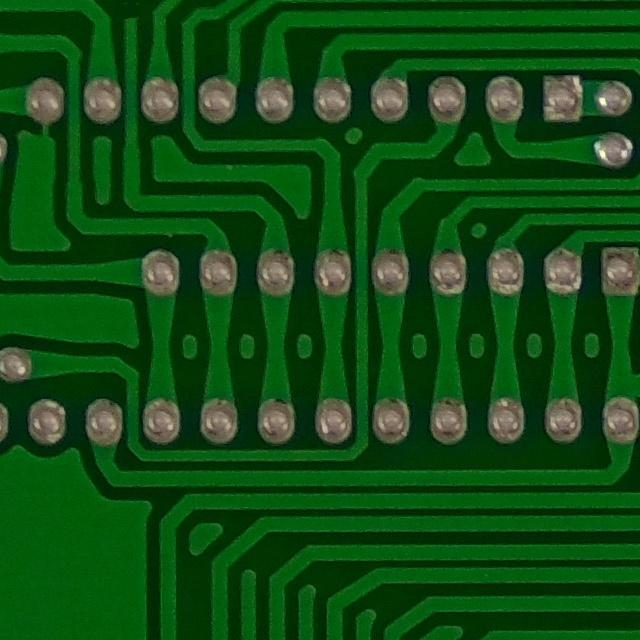open_circuit: (115, 0, 147, 29)
